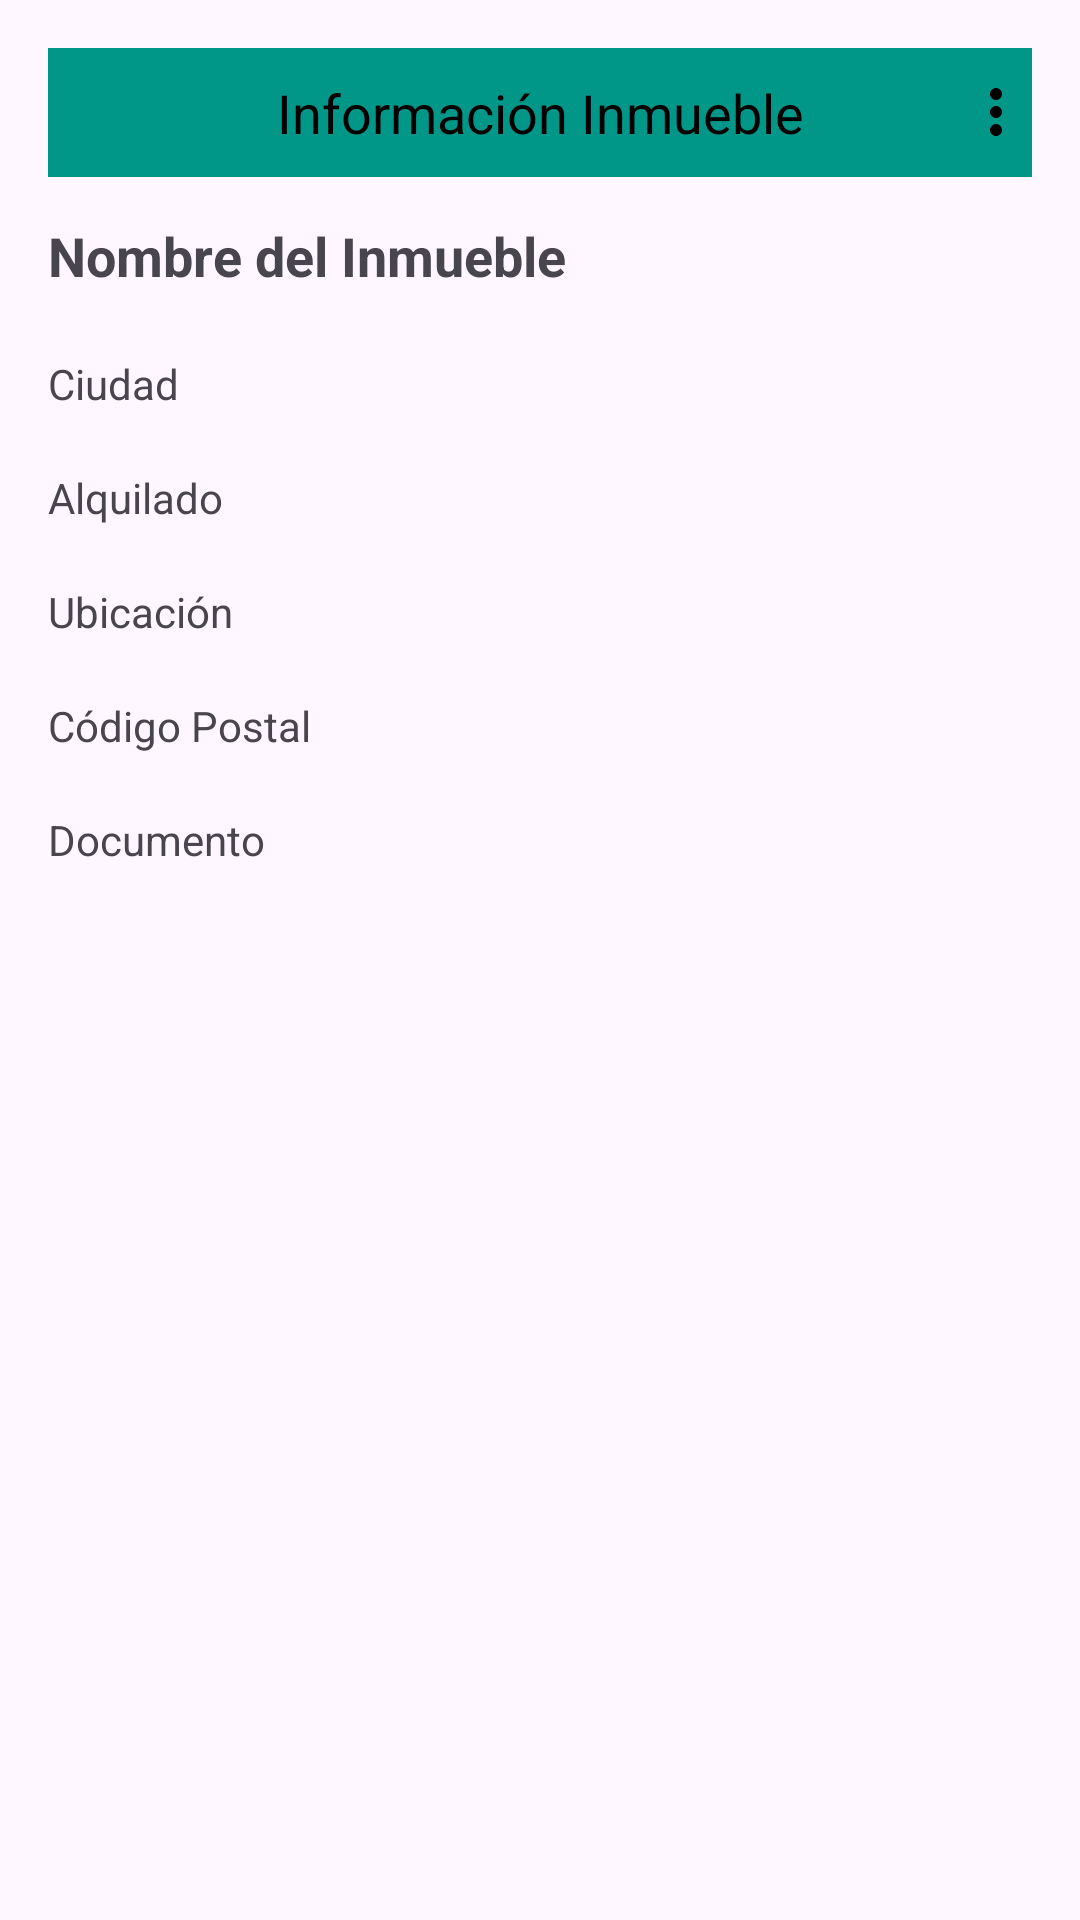

Named icons in this screenshot (1080 x 1920) and their centers, point (x, y):
more vert: point (996, 112)
